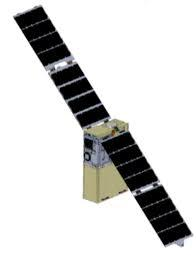body: (80, 118, 131, 206)
solar: (12, 3, 113, 131), (99, 128, 195, 250)
